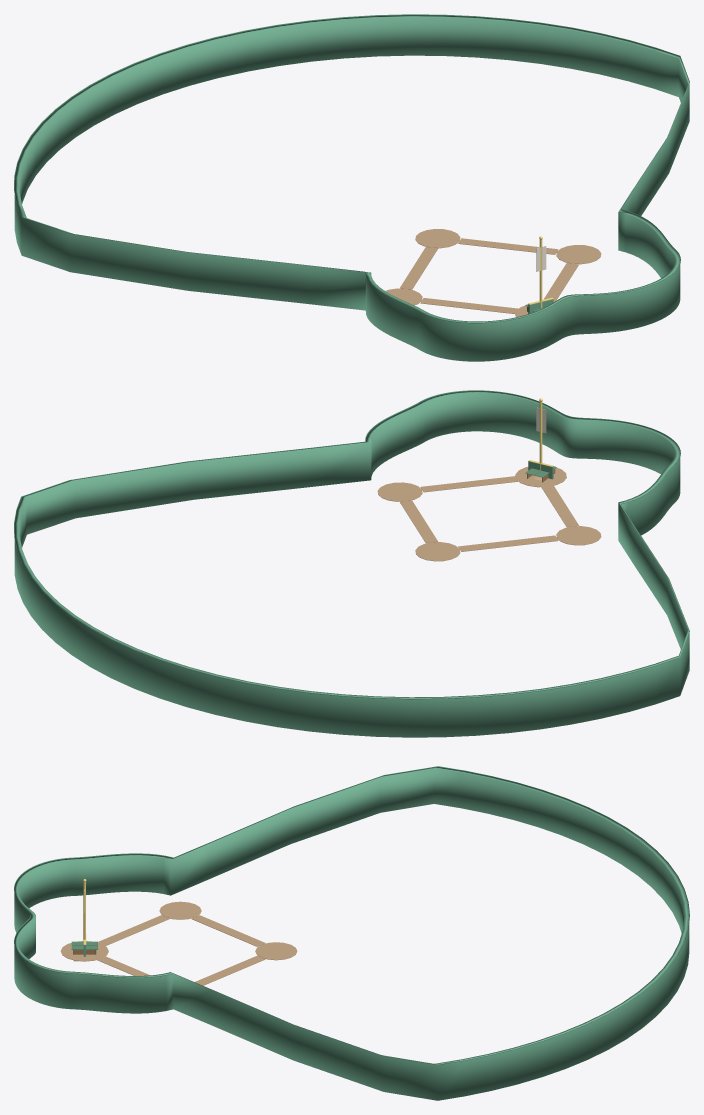
File: harbor-kit.fbx
3 renders of one model, top to bottom at view 1: azimuth 30°, elevation 25°; view 2: azimuth 150°, elevation 25°; view 3: azimuth 270°, elevation 25°, orthographic. The views are drawn at different scales.
Parts seen in each view (by area): view 1: wall-ring, infield-dirt; view 2: wall-ring, infield-dirt; view 3: wall-ring, infield-dirt.
Part boxes in pixels (x1,y1,x2,y2): wall-ring: (14,14,689,361); infield-dirt: (385,229,601,316); wall-ring: (14,390,689,737); infield-dirt: (377,467,601,561); wall-ring: (14,766,689,1100); infield-dirt: (60,901,297,985).
Size of the model in its own units: 470 by 55.81 by 449.
